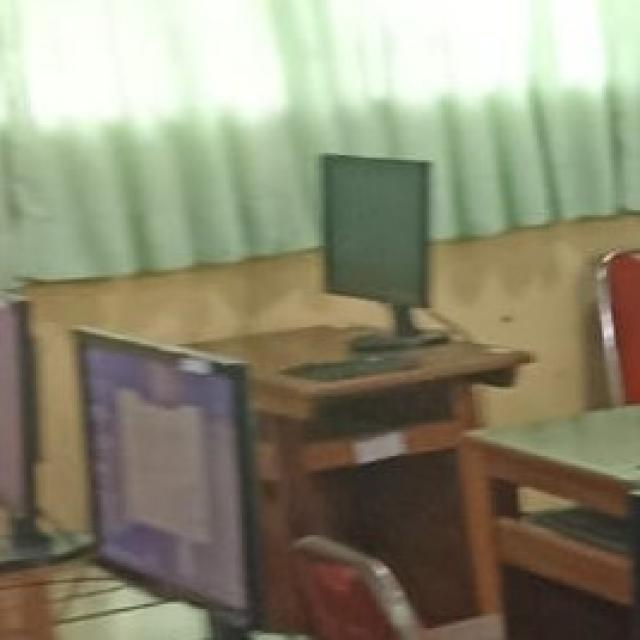offscreen: (324, 155, 430, 306)
onscreen: (85, 335, 253, 609)
